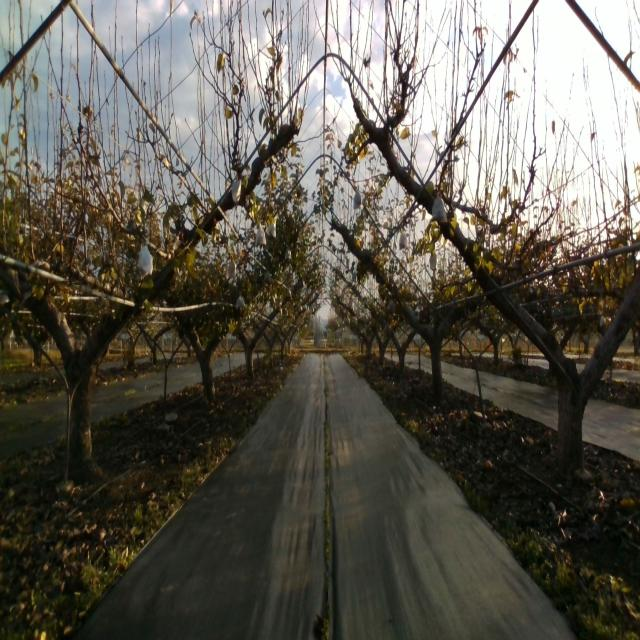pearbags: (429, 192, 448, 224), (139, 238, 153, 280), (231, 174, 242, 202), (255, 222, 267, 246)
